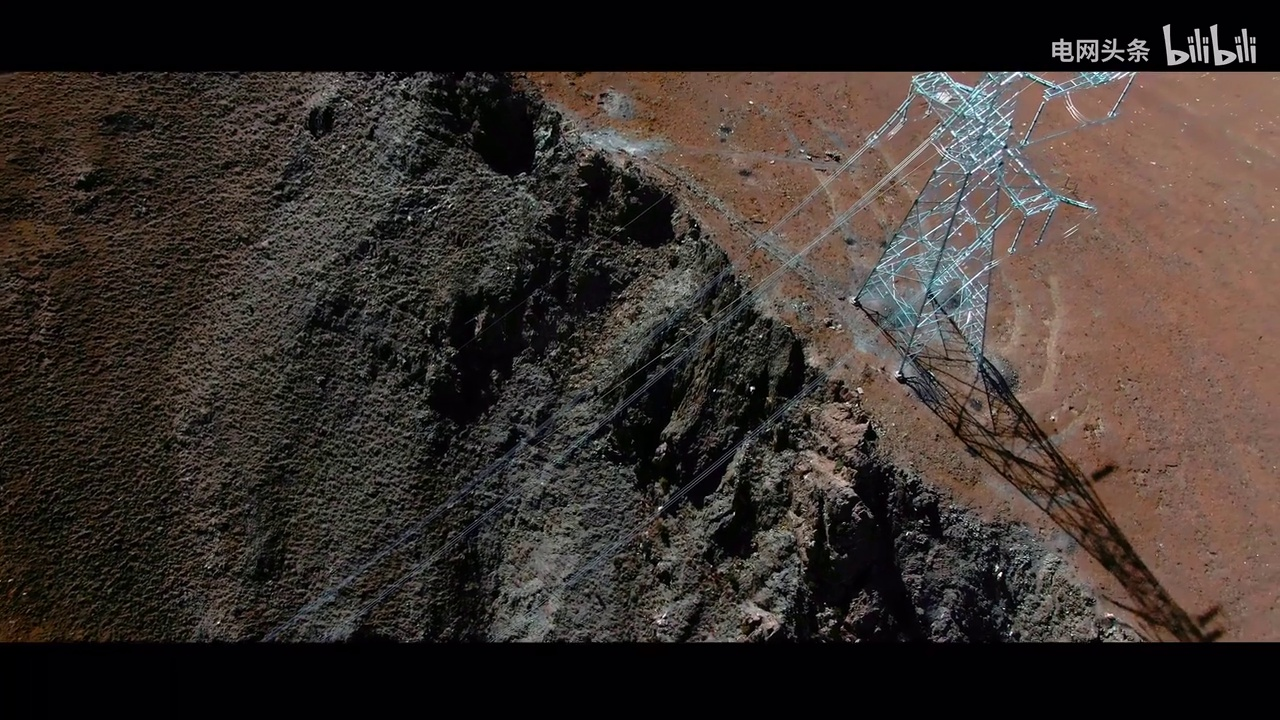tower_body: (850, 76, 1135, 388)
tower_foot: (854, 254, 995, 380)
